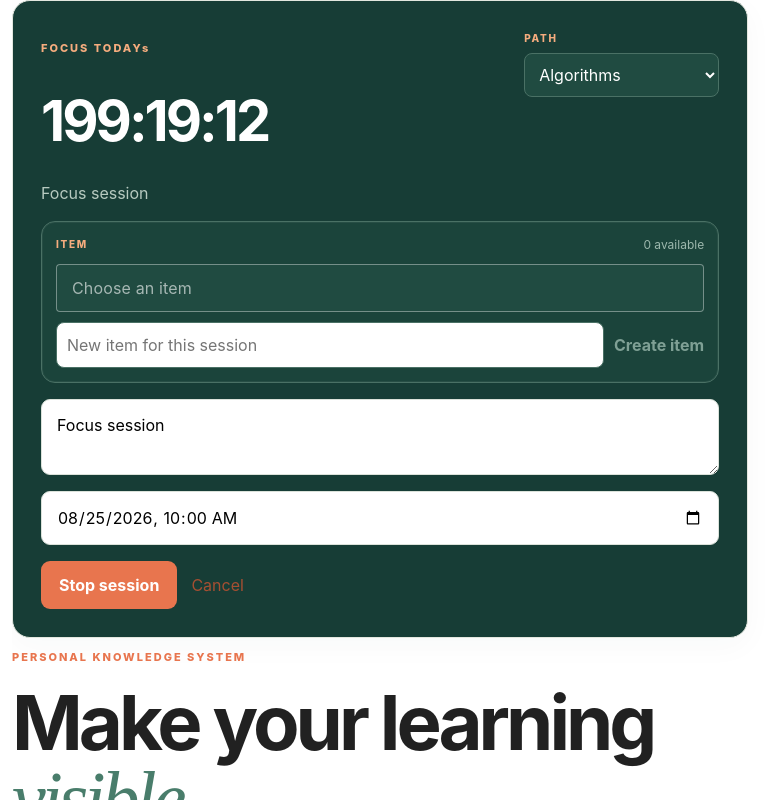
Test: DashboardView timer flow › refreshes recent sessions after stopping the active timer
Click the button "Stop session": (109, 584) [41,560,177,608]
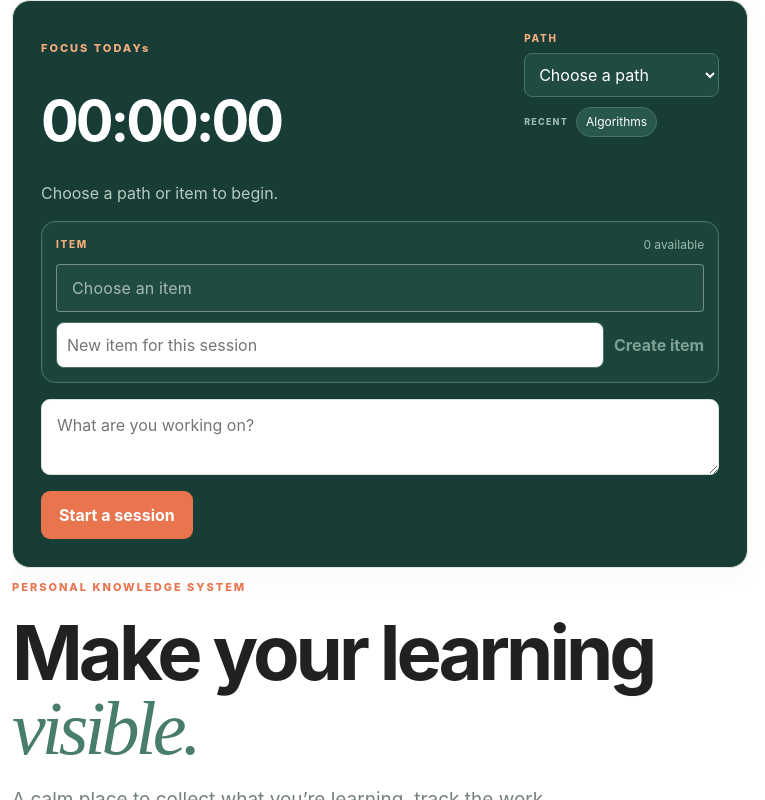
Expected: the text "Start a session" is shown, [41,490,193,538]
Expected: the dropdown named "Timer path" shows "Choose a path", [524,53,719,97]
Expected: the text box named "Timer description" is empty, [41,398,719,474]
